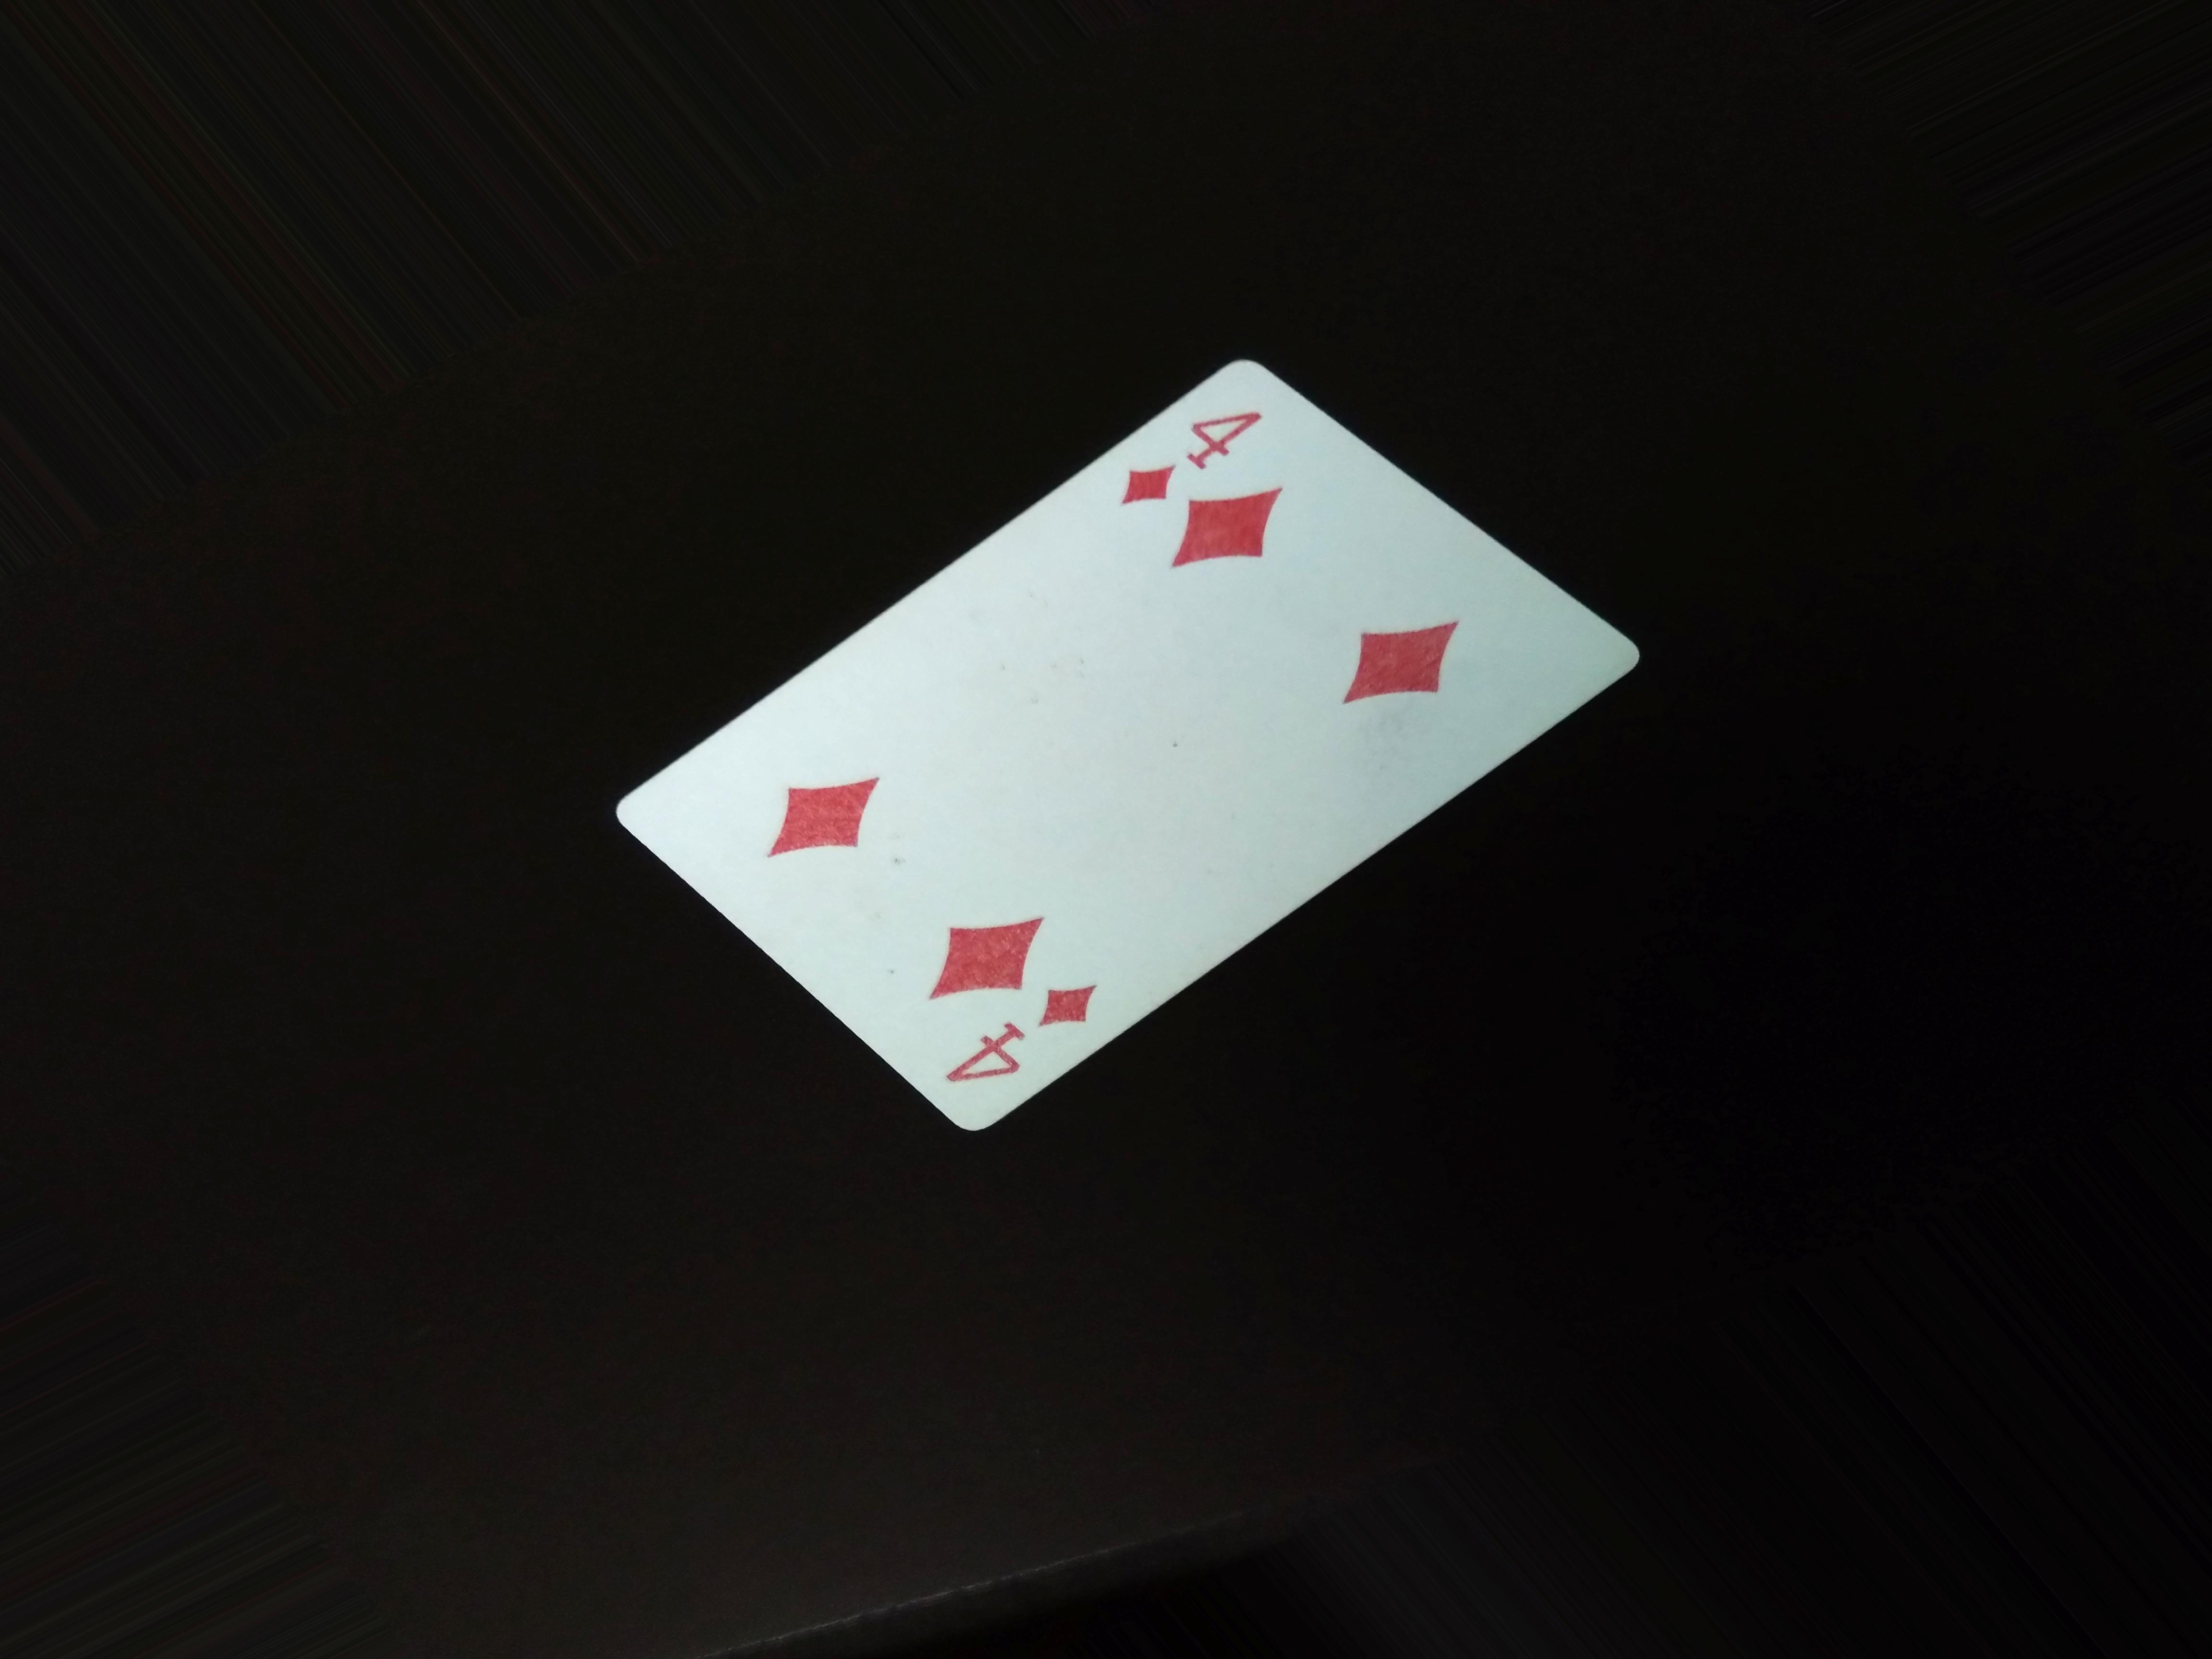4D: (1103, 373, 1270, 519)
